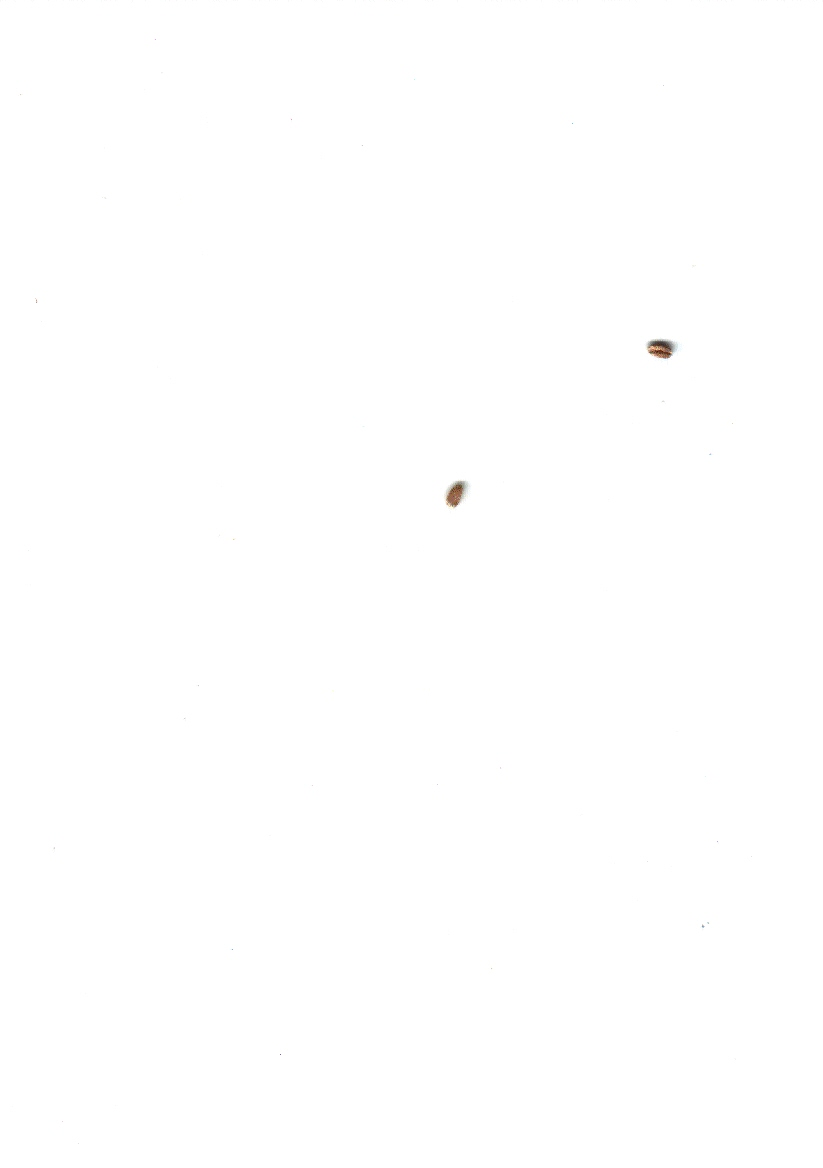grains: (633, 325, 685, 373), (433, 472, 475, 516)
